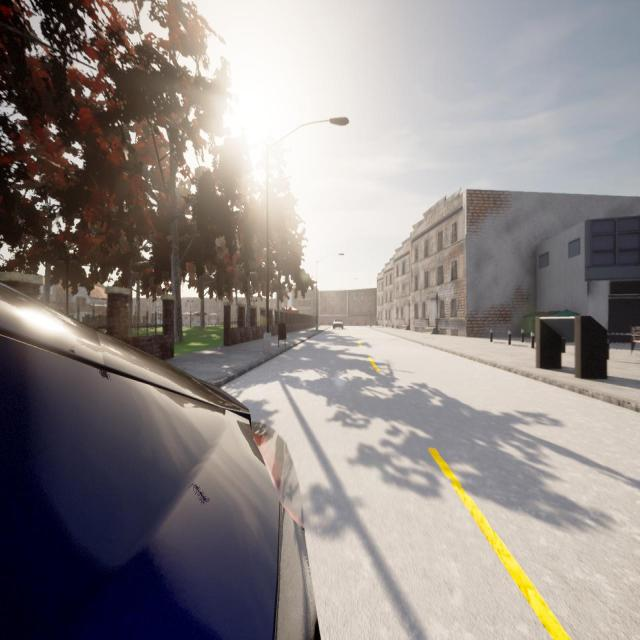Vehicle: (0, 287, 316, 640), (332, 318, 343, 329)
